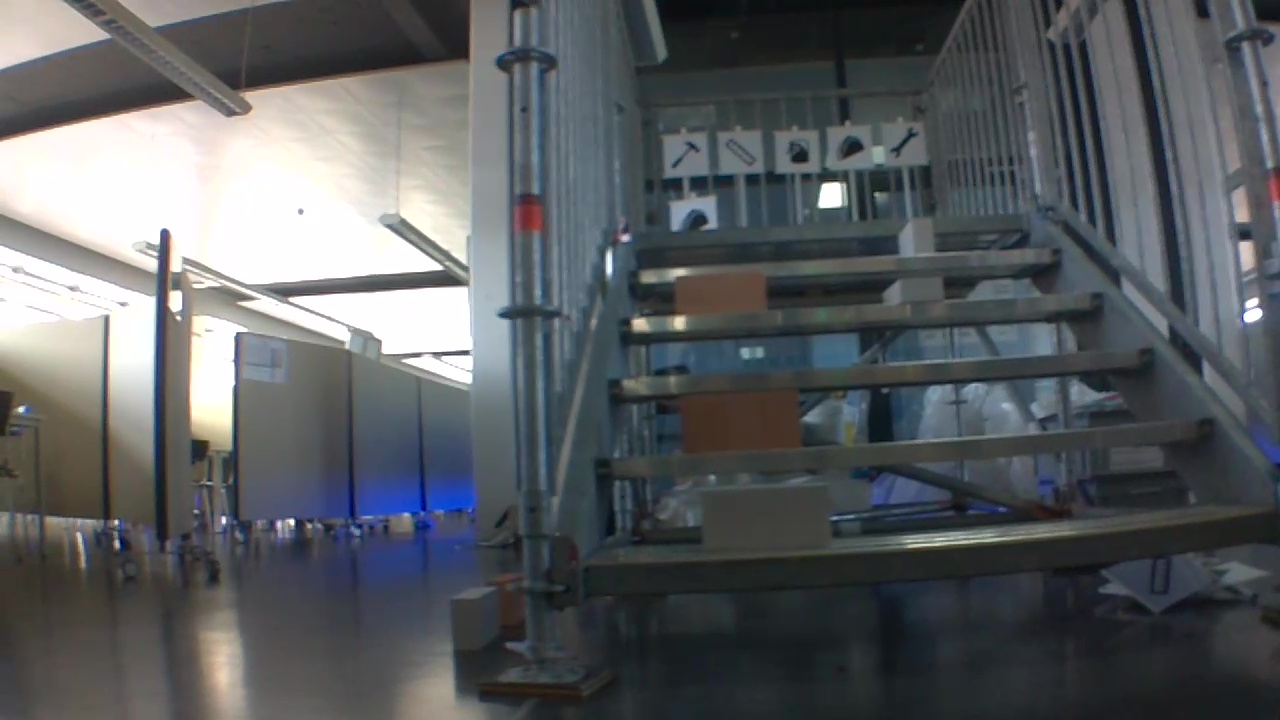brick: (699, 478, 830, 550), (681, 389, 799, 452), (676, 272, 767, 311), (450, 584, 495, 648), (490, 575, 526, 627), (886, 274, 942, 301), (896, 217, 934, 255)
bucket: (780, 135, 815, 167)
edge: (581, 505, 1272, 593), (601, 417, 1214, 475), (605, 346, 1156, 398), (616, 292, 1100, 333), (632, 247, 1062, 280), (636, 216, 1026, 235)
hammer: (666, 139, 701, 170)
ruler: (721, 134, 761, 170)
stairs: (469, 3, 1280, 698)
steps: (578, 206, 1278, 600)
taco: (831, 131, 868, 164), (673, 204, 712, 232)
wrench: (885, 123, 922, 163)
